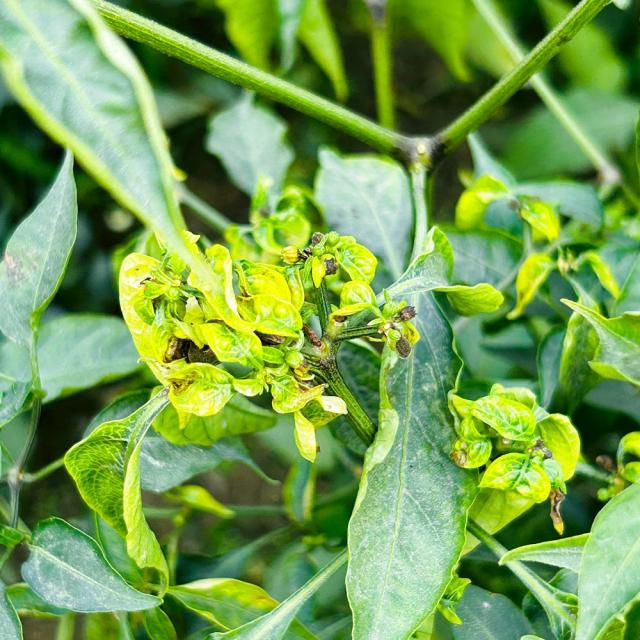Chilli_Leaf_Curl: (1, 1, 638, 638), (116, 225, 413, 462), (342, 224, 503, 638), (447, 382, 581, 536), (19, 515, 165, 614)
